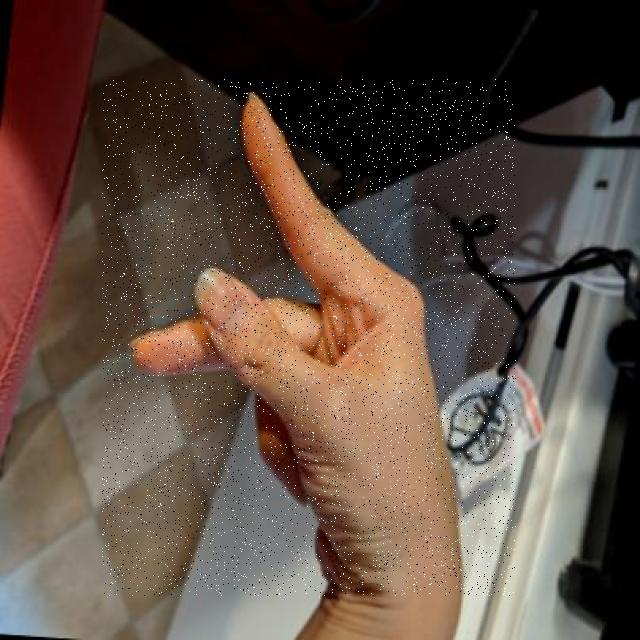P: (102, 79, 516, 596)
